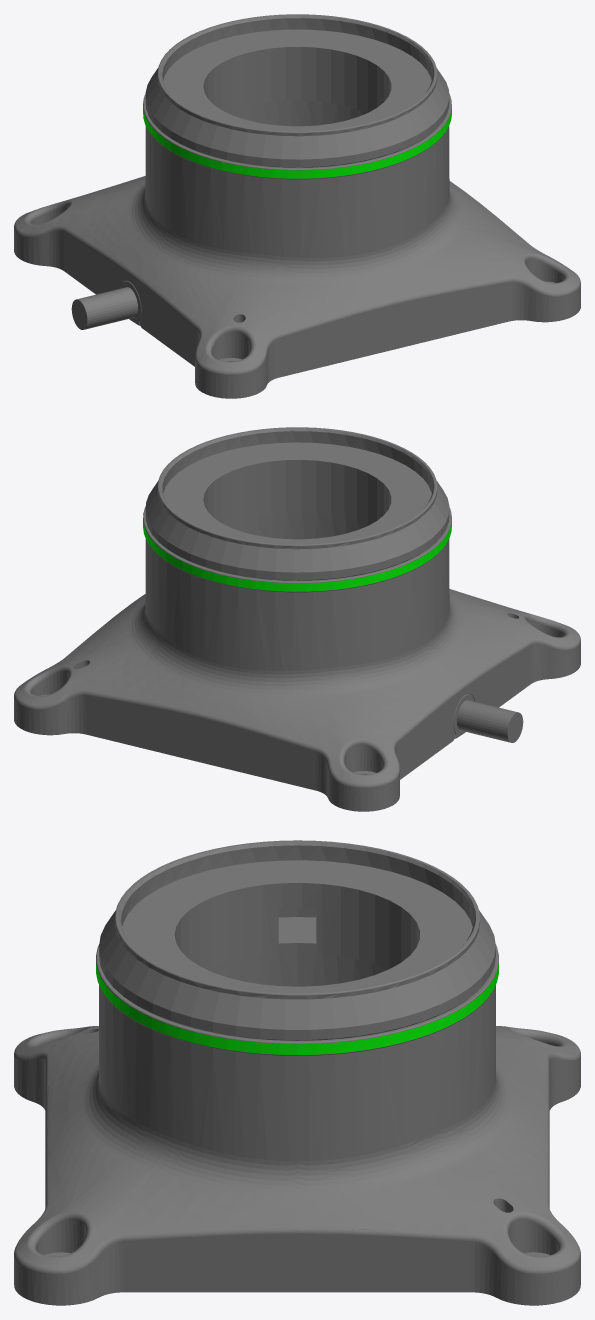
File: symphony5_0_b.dae
3 views of the same model, one above another, from view 1: azimuth 30°, elevation 25°; view 2: azimuth 150°, elevation 25°; view 3: azimuth 270°, elevation 25° (orthographic). The views are drawn at different scales.
Parts seen in each view (by area): view 1: link0; view 2: link0; view 3: link0.
Boxes of the visible parts, bbox=[...] form: link0: bbox=[14, 14, 580, 398]; link0: bbox=[14, 427, 580, 811]; link0: bbox=[14, 840, 580, 1305].
Bounding box in the file's own units: 0.1942 × 0.18 × 0.0944.
